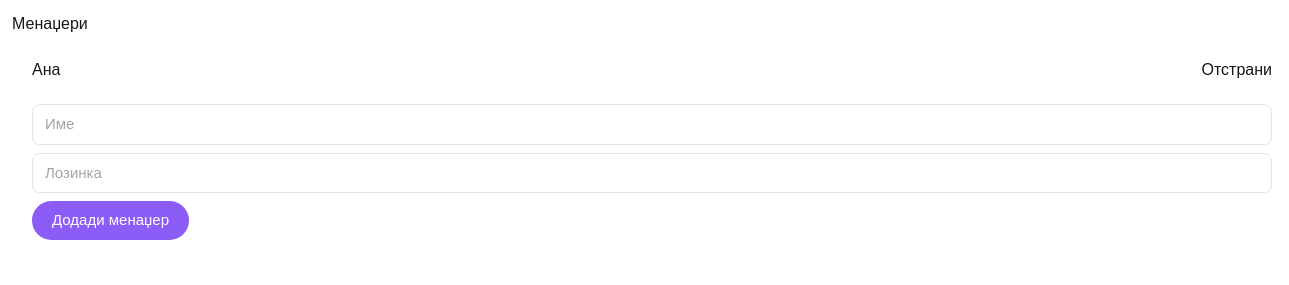
Scenario: ManagersSection › explains a failed removal instead of failing silently, and re-enables the button
The image size is (1289, 285).
Click the button "Отстрани" at (1237, 70), box 1202,58 -> 1272,82
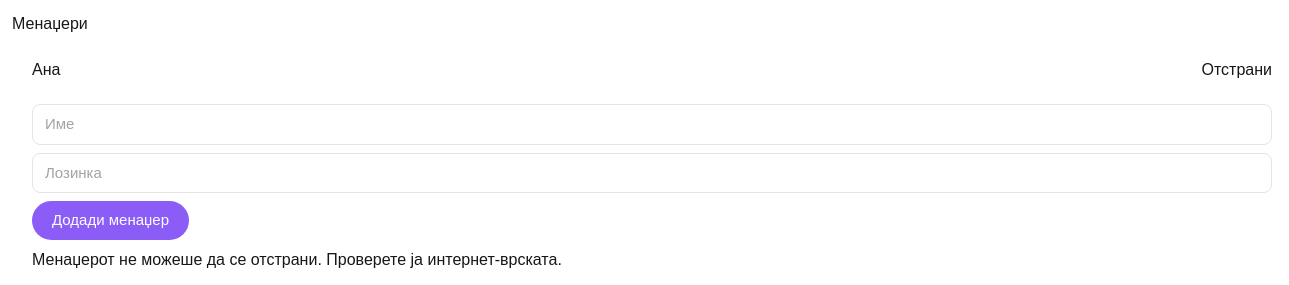
Check: the message shows "Менаџерот не можеше да се отстрани.", box 32,250 -> 562,268
